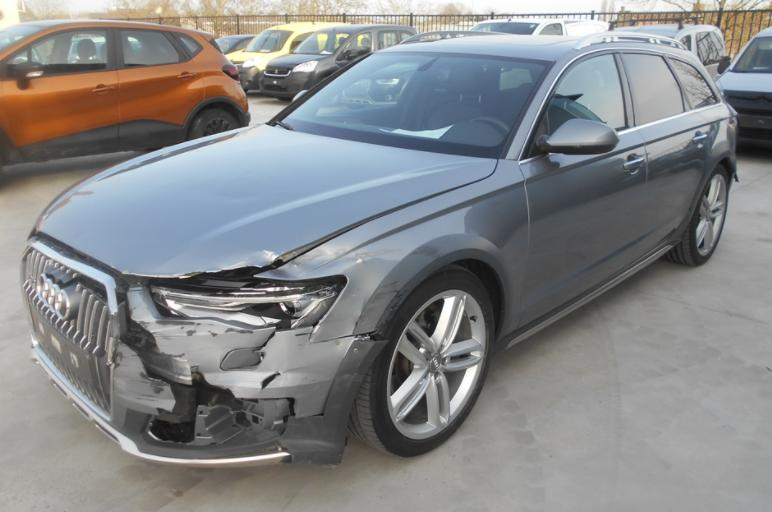Broken part: (20, 226, 387, 464), (141, 172, 493, 287), (149, 276, 345, 331)
Corrosion: (96, 126, 262, 182), (35, 190, 94, 233)
Dent: (255, 242, 408, 343), (222, 251, 279, 270)
Flaking: (356, 257, 363, 263)
Scratch: (352, 280, 408, 339), (344, 249, 400, 264), (259, 249, 282, 267)
